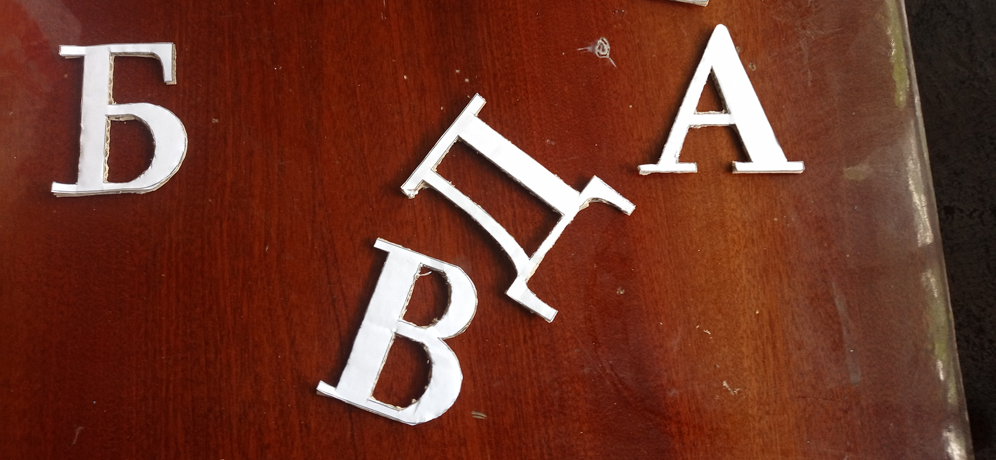a: (634, 22, 807, 178)
b: (54, 41, 191, 200)
d: (398, 90, 636, 324)
v: (311, 235, 479, 428)
